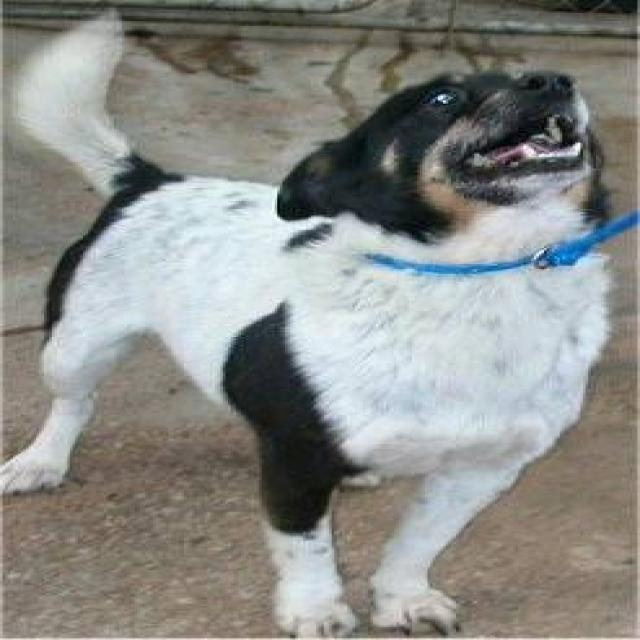dog: (10, 6, 640, 640)
